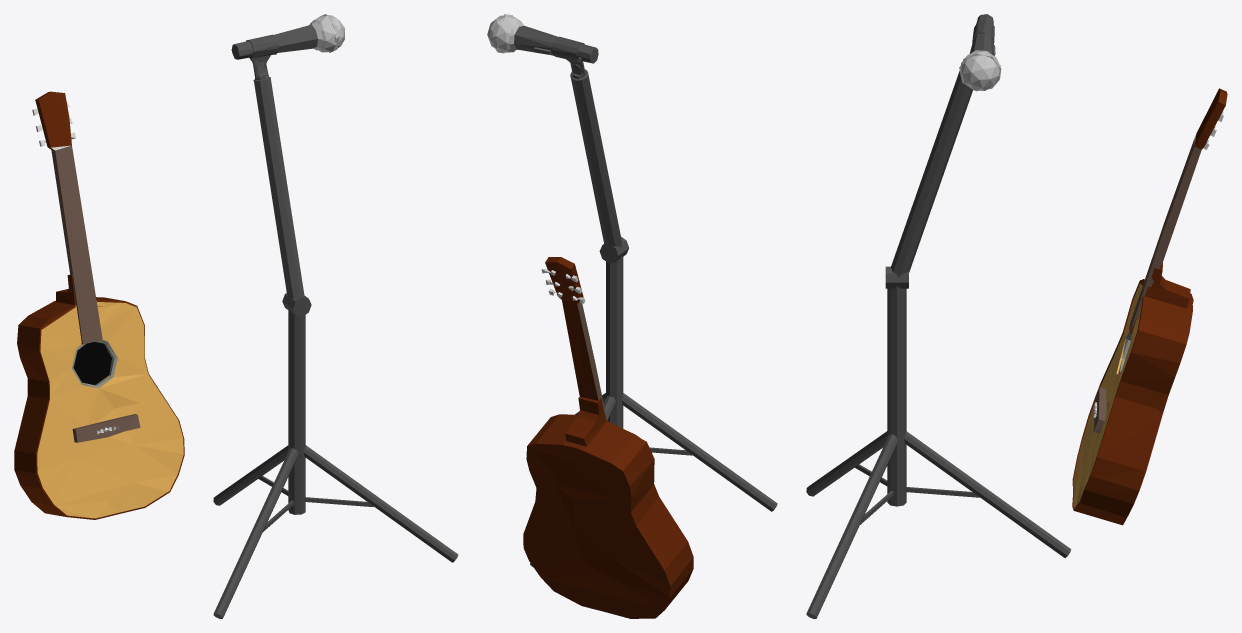
File: micro.fbx
The picture shows the model from 3 angles, left to right: view 1: azimuth 30°, elevation 25°; view 2: azimuth 150°, elevation 25°; view 3: azimuth 270°, elevation 25°; orthographic projection. The views are drawn at different scales.
Visible parts, largest first — view 1: Cube.024, Cube.021; view 2: Cube.024, Cube.021; view 3: Cube.024, Cube.021.
Part boxes in pixels (left/top/right/bottom): Cube.024: left=14, top=91, right=184, bottom=519; Cube.021: left=213, top=14, right=458, bottom=618; Cube.024: left=523, top=257, right=693, bottom=618; Cube.021: left=487, top=14, right=777, bottom=566; Cube.024: left=1072, top=88, right=1227, bottom=525; Cube.021: left=806, top=14, right=1071, bottom=618.
Bounding box in the file's own units: 795 × 1309 × 919.
